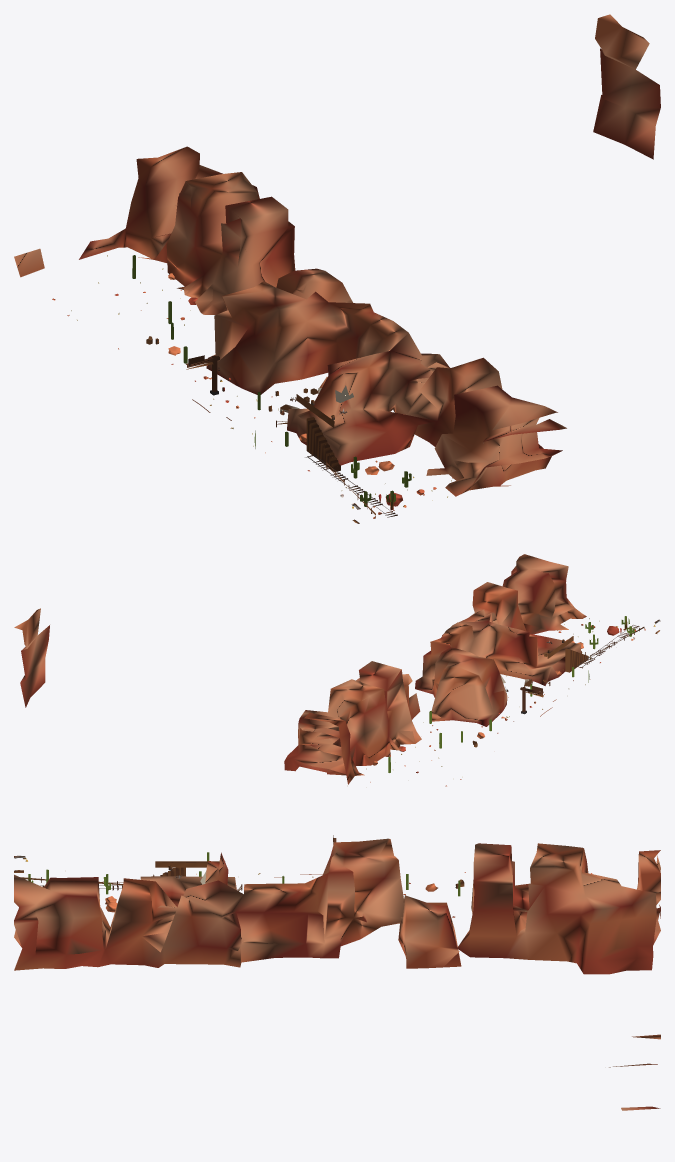
3 renders of one model, top to bottom at view 1: azimuth 30°, elevation 25°; view 2: azimuth 150°, elevation 25°; view 3: azimuth 270°, elevation 25°, orthographic. The views are drawn at different scales.
Parts seen in each view (by area): view 1: scene.l1.2.1 (×2); view 2: scene.l1.2.1 (×2); view 3: scene.l1.2.1 (×2).
Boxes of the visible parts, x1,y1,x2,y2 form: scene.l1.2.1 (×2): (14,14,660,523); scene.l1.2.1 (×2): (14,554,660,786); scene.l1.2.1 (×2): (14,835,660,1110).
Size of the model in its own units: 125 by 23.82 by 125.
